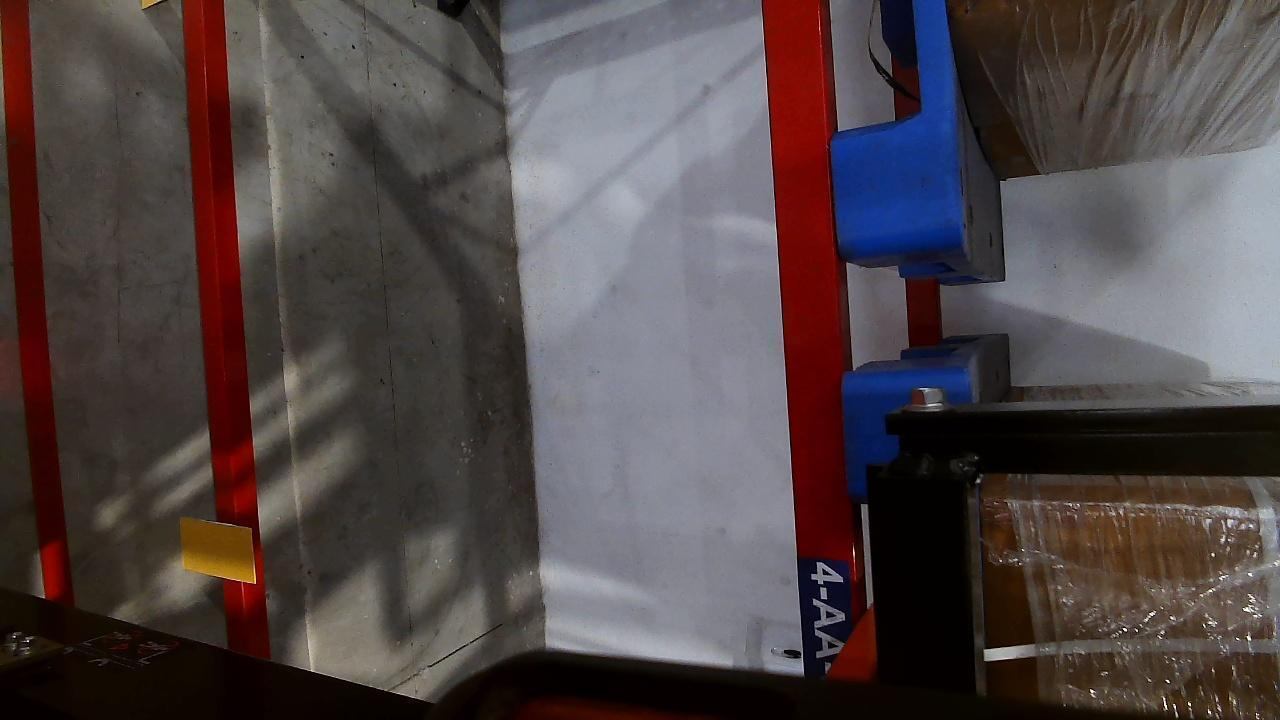red_line: (0, 1, 67, 599)
